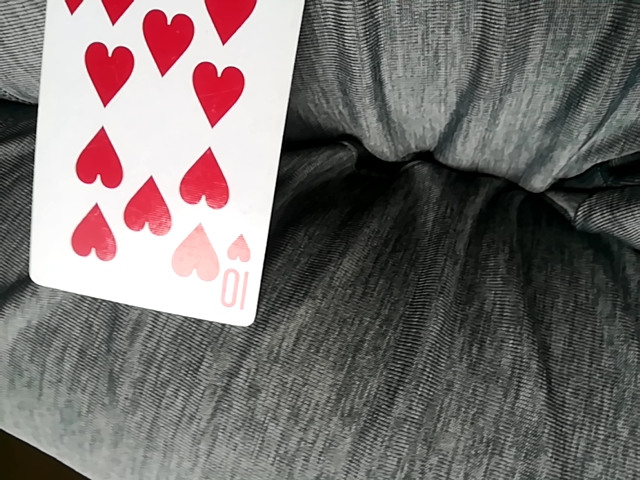hx 10: (27, 7, 301, 331)
